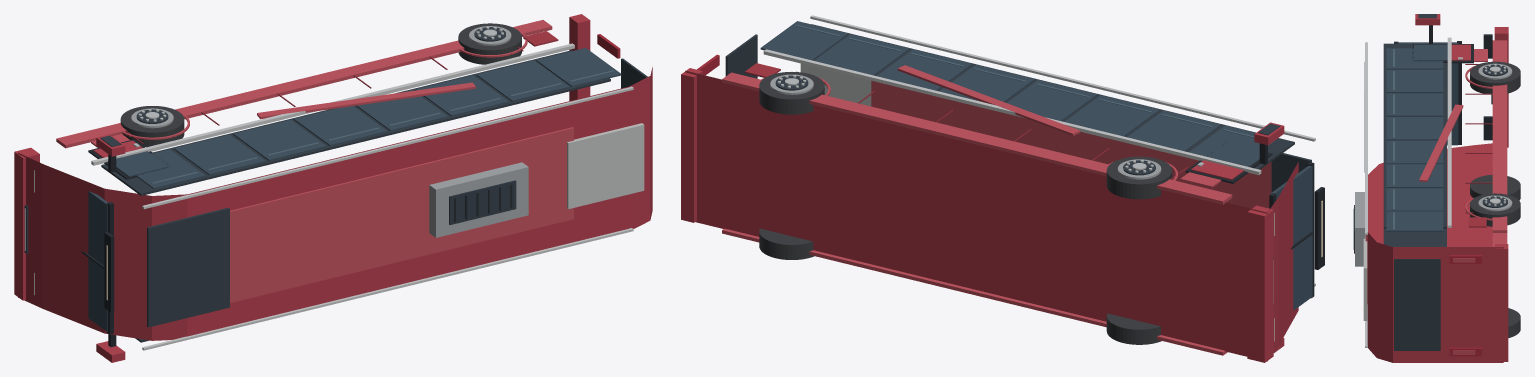
The model's file is zafer_hyodo_detailed_coach.glb.
The picture shows the model from 3 angles, left to right: view 1: azimuth 30°, elevation 25°; view 2: azimuth 150°, elevation 25°; view 3: azimuth 270°, elevation 25°; orthographic projection. The views are drawn at different scales.
Visible parts, largest first — view 1: Main red coach body, Roof central red panel, Roof front black glass panel, Roof rear access panel, Lower side skirt far, Side glazing band 1, Roof HVAC unit, Side white beltline 1, Front windshield dark glass, Side tinted window 1-6, Side tinted window 1-2, Side tinted window 1-3 (+15 smaller); view 2: Main red coach body, Roof central red panel, Lower side skirt far, Front bumper, Side white beltline 1, Front windshield dark glass, Lower side skirt near, Rear bumper, Roof edge trim 1, Side tinted window 1-2, Side tinted window 1-6, Side tinted window 1-1 (+17 smaller); view 3: Main red coach body, Rear window, Lower side skirt far, Side glazing band 1, Rear bumper, Side tinted window 1-2, Side tinted window 1-6, Side tinted window 1-3, Side tinted window 1-1, Side tinted window 1-5, Side tinted window 1-7, Side tinted window 1-4 (+29 smaller).
Boxes of the visible parts, x1,y1,x2,y2 form: Main red coach body: [18, 67, 652, 340]; Roof central red panel: [230, 127, 573, 302]; Roof front black glass panel: [147, 207, 229, 327]; Roof rear access panel: [567, 123, 644, 208]; Lower side skirt far: [56, 20, 552, 148]; Side glazing band 1: [101, 50, 610, 195]; Roof HVAC unit: [429, 162, 528, 237]; Side white beltline 1: [91, 43, 574, 165]; Front windshield dark glass: [88, 191, 107, 331]; Side tinted window 1-6: [476, 60, 569, 101]; Side tinted window 1-2: [233, 120, 326, 160]; Side tinted window 1-3: [294, 106, 387, 145]; Main red coach body: [685, 70, 1298, 361]; Roof central red panel: [871, 80, 1271, 208]; Lower side skirt far: [722, 72, 1232, 204]; Front bumper: [1247, 205, 1273, 362]; Side white beltline 1: [763, 49, 1261, 175]; Front windshield dark glass: [1270, 165, 1312, 310]; Lower side skirt near: [722, 228, 1227, 355]; Rear bumper: [681, 68, 702, 222]; Roof edge trim 1: [810, 15, 1315, 141]; Side tinted window 1-2: [1064, 95, 1159, 136]; Side tinted window 1-6: [814, 34, 909, 75]; Side tinted window 1-1: [1127, 110, 1220, 151]; Main red coach body: [1367, 143, 1503, 362]; Rear window: [1394, 259, 1440, 350]; Lower side skirt far: [1492, 40, 1507, 232]; Side glazing band 1: [1383, 43, 1446, 228]; Rear bumper: [1495, 244, 1508, 361]; Side tinted window 1-2: [1386, 93, 1443, 116]; Side tinted window 1-6: [1386, 188, 1443, 211]; Side tinted window 1-3: [1386, 117, 1443, 140]; Side tinted window 1-1: [1386, 70, 1443, 92]; Side tinted window 1-5: [1386, 164, 1443, 187]; Side tinted window 1-7: [1386, 211, 1443, 231]; Side tinted window 1-4: [1386, 140, 1443, 163].
Size of the model in its own units: 10.13 by 3.66 by 3.23.
